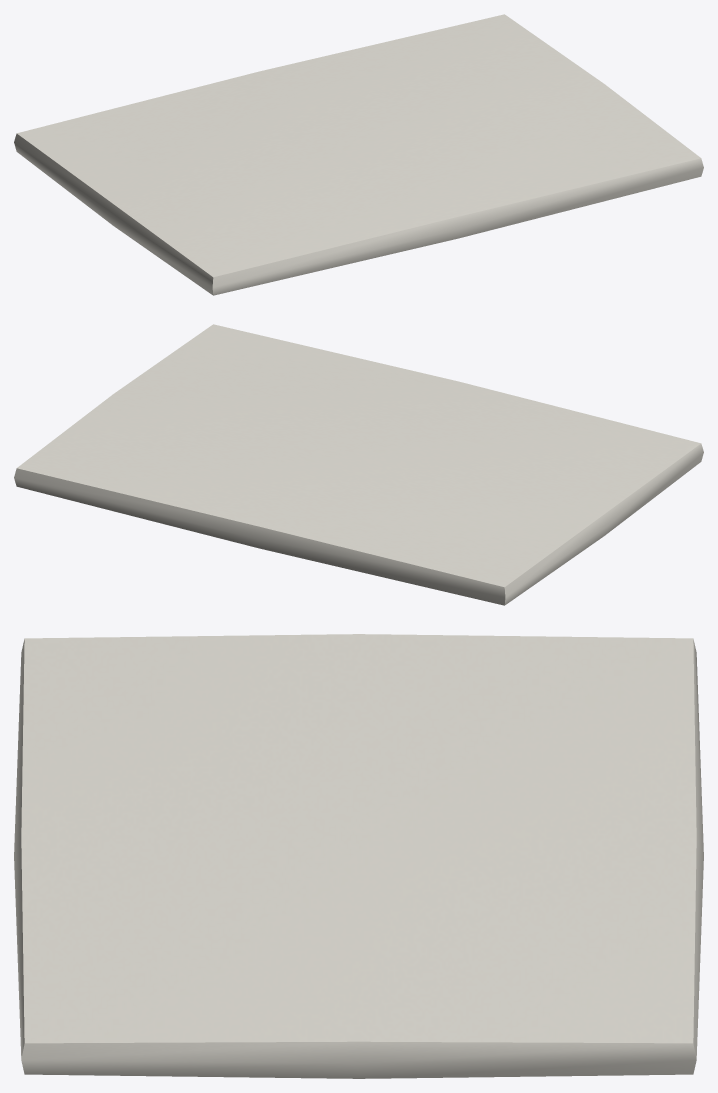
Rendered from air-vent.glb.
The picture shows the model from 3 angles, top to bottom: view 1: azimuth 30°, elevation 25°; view 2: azimuth 150°, elevation 25°; view 3: azimuth 270°, elevation 25°; orthographic projection. The views are drawn at different scales.
Visible parts, largest first — view 1: air-vent; view 2: air-vent; view 3: air-vent.
Boxes of the visible parts, x1,y1,x2,y2 form: air-vent: (14,14,703,295); air-vent: (14,324,703,605); air-vent: (14,634,703,1078).
Size of the model in its own units: 0.44 by 0.036 by 0.31.
Materials: 8 (8 with a texture image).
